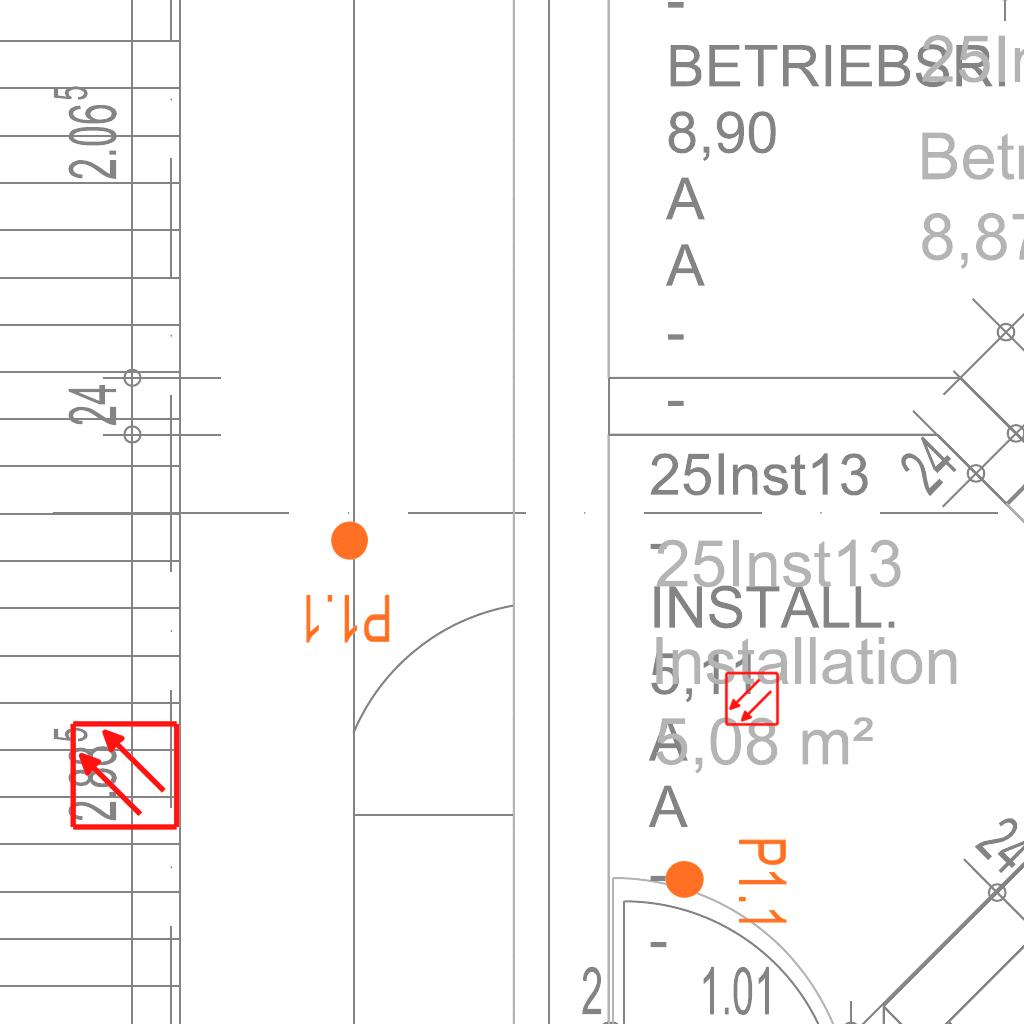Downlight_LED_Einbauleuchten_Flur: (662, 836, 790, 929), (300, 518, 393, 646)
RMO_Rauchmelder_optischer: (68, 719, 181, 832), (724, 671, 780, 727)
